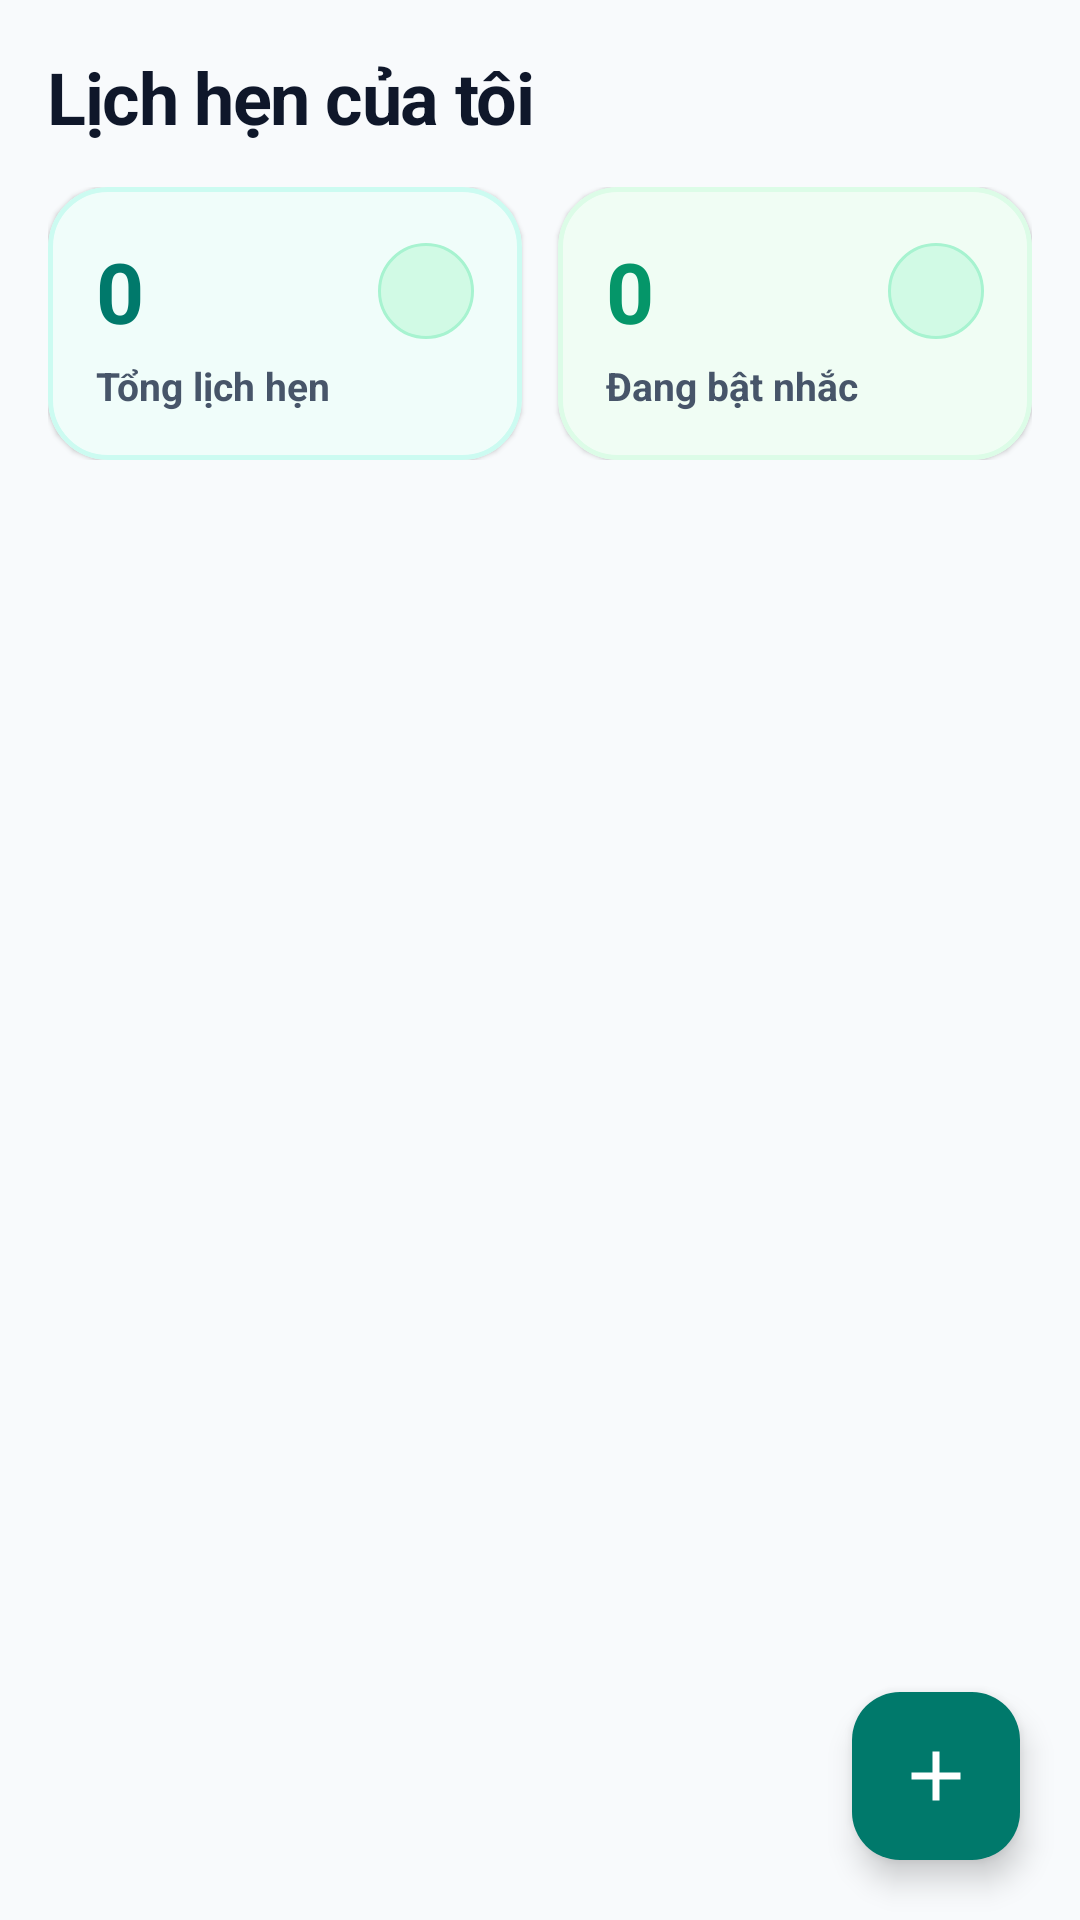

Icon bounding boxes for this 1080w x 1920h phone screenshot, format (x1, y1, x2, y2):
Thêm lịch hẹn: (852, 1692, 1020, 1860)
